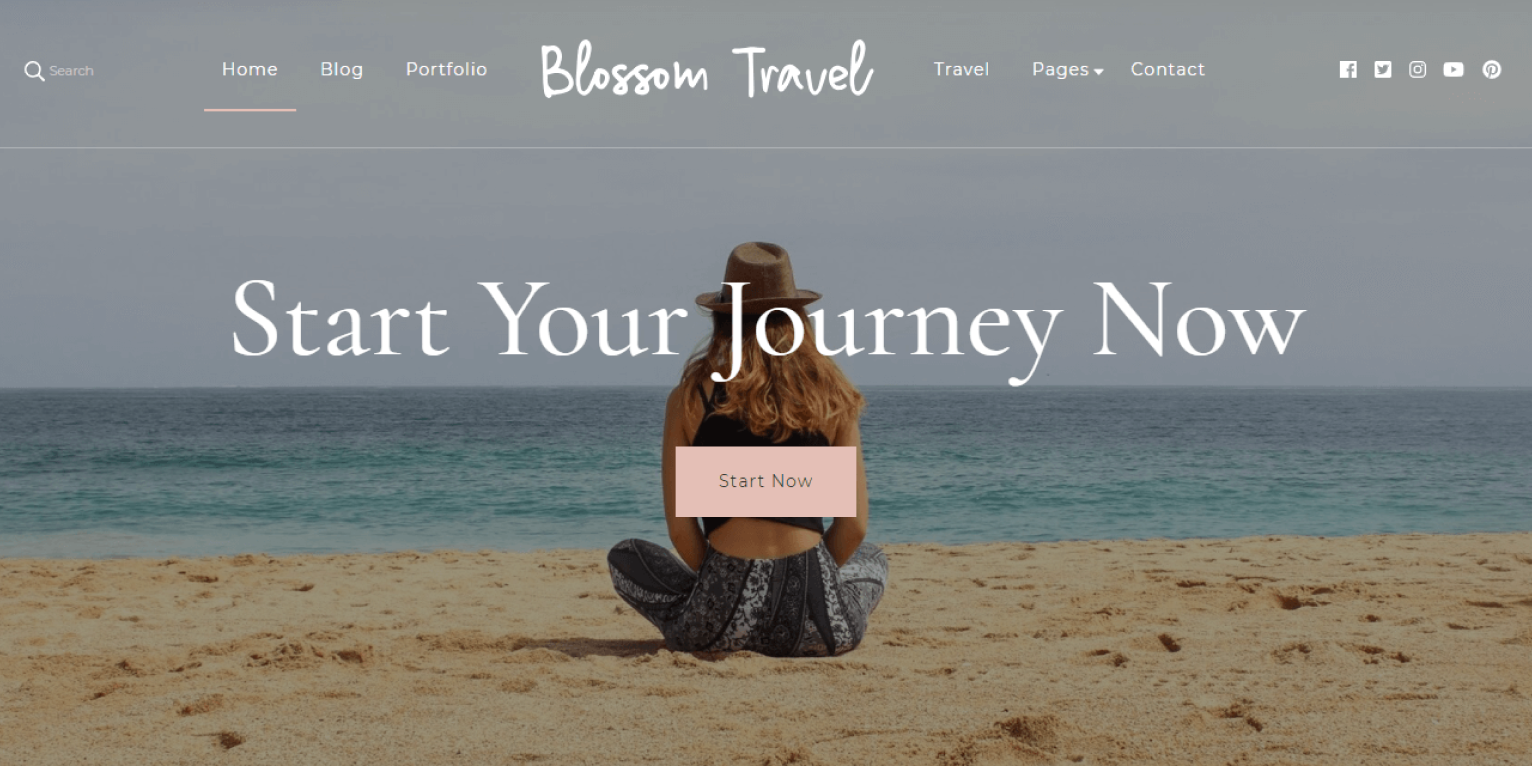menu-bar: (10, 15, 1523, 195)
